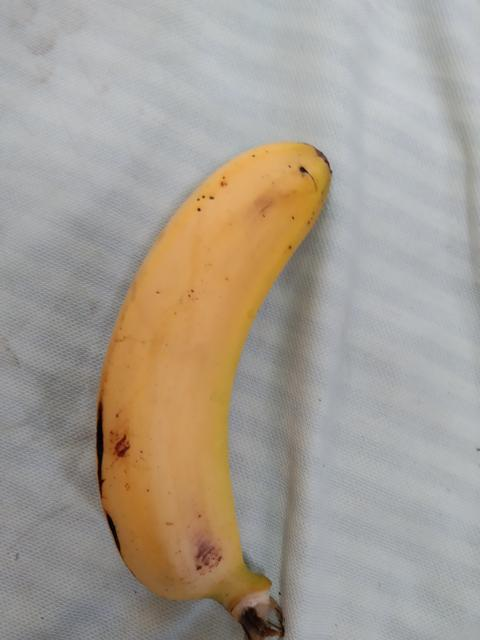ripe: (81, 125, 353, 611)
